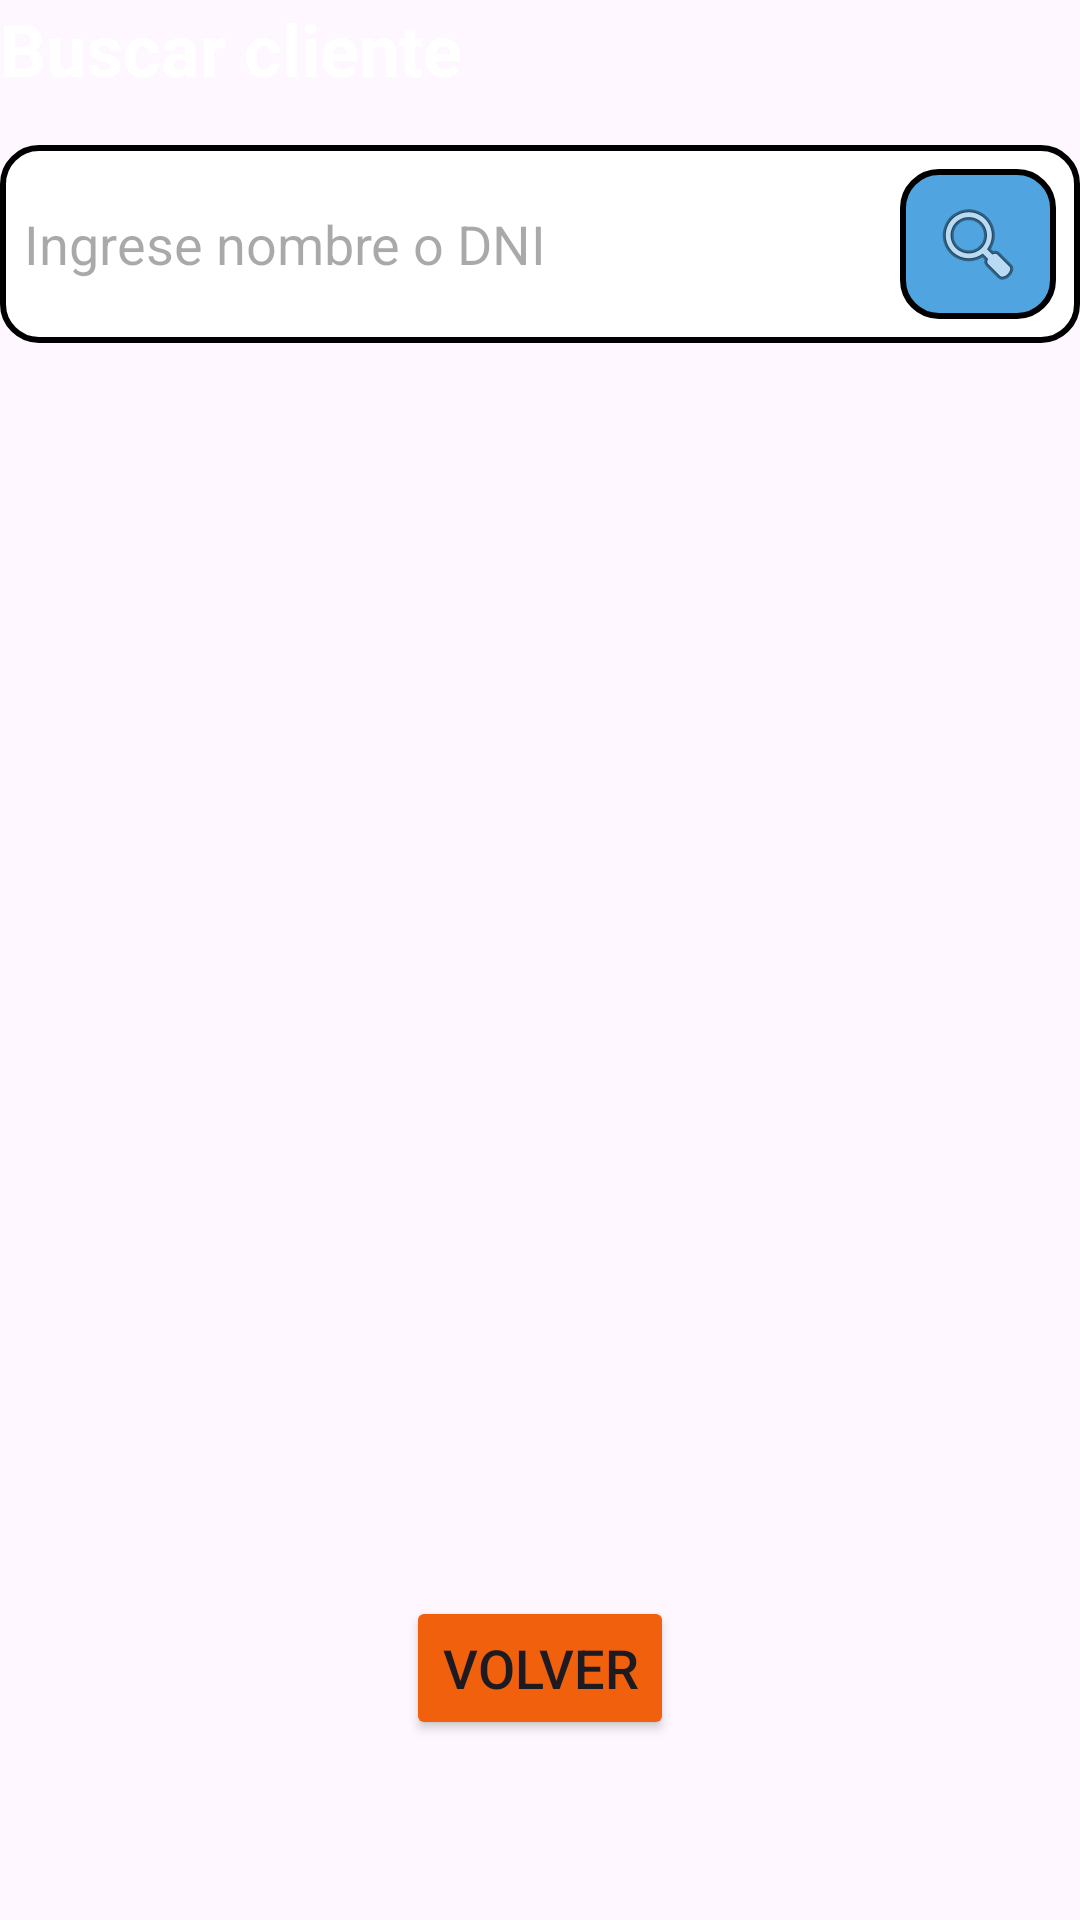

Icon bounding boxes for this 1080w x 1920h phone screenshot, format (x1, y1, x2, y2):
search: (900, 169, 1056, 319)
